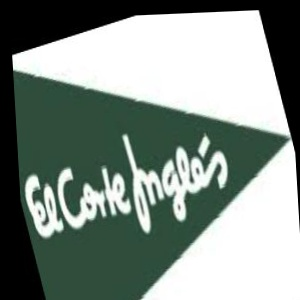corte_ingles: (232, 56, 240, 145)
